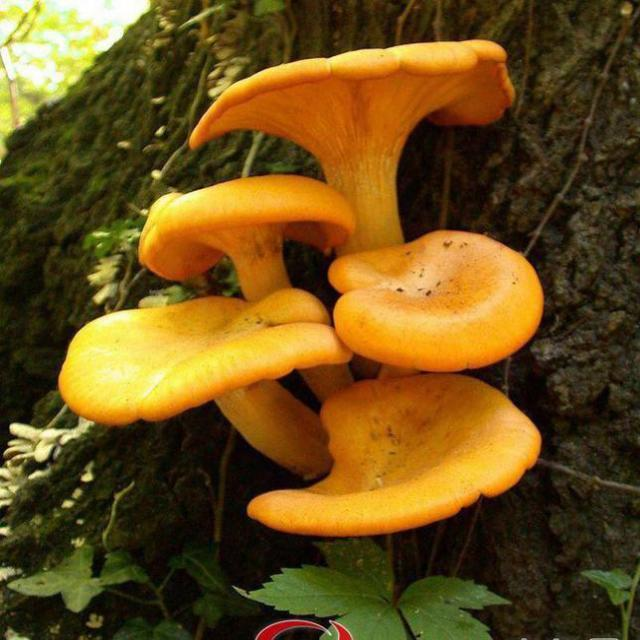Cantharellus cibarius: (195, 43, 517, 238), (66, 301, 347, 475), (256, 380, 542, 534), (333, 230, 546, 372), (136, 178, 365, 289)
